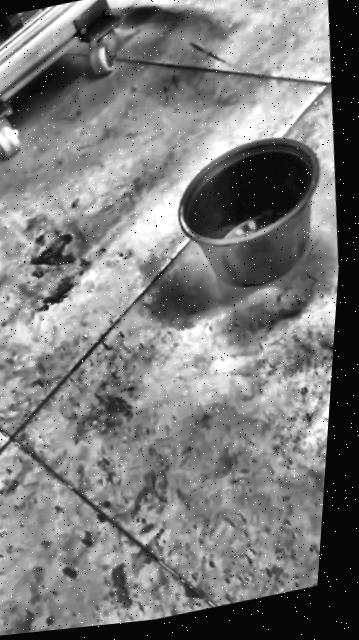pot: (168, 127, 333, 302)
